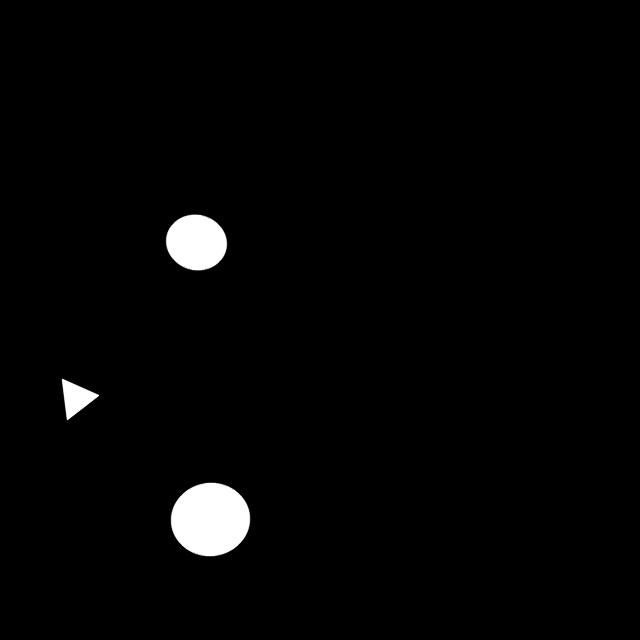Circle: (160, 472, 261, 564), (154, 204, 236, 283)
Triangle: (52, 370, 106, 430)
